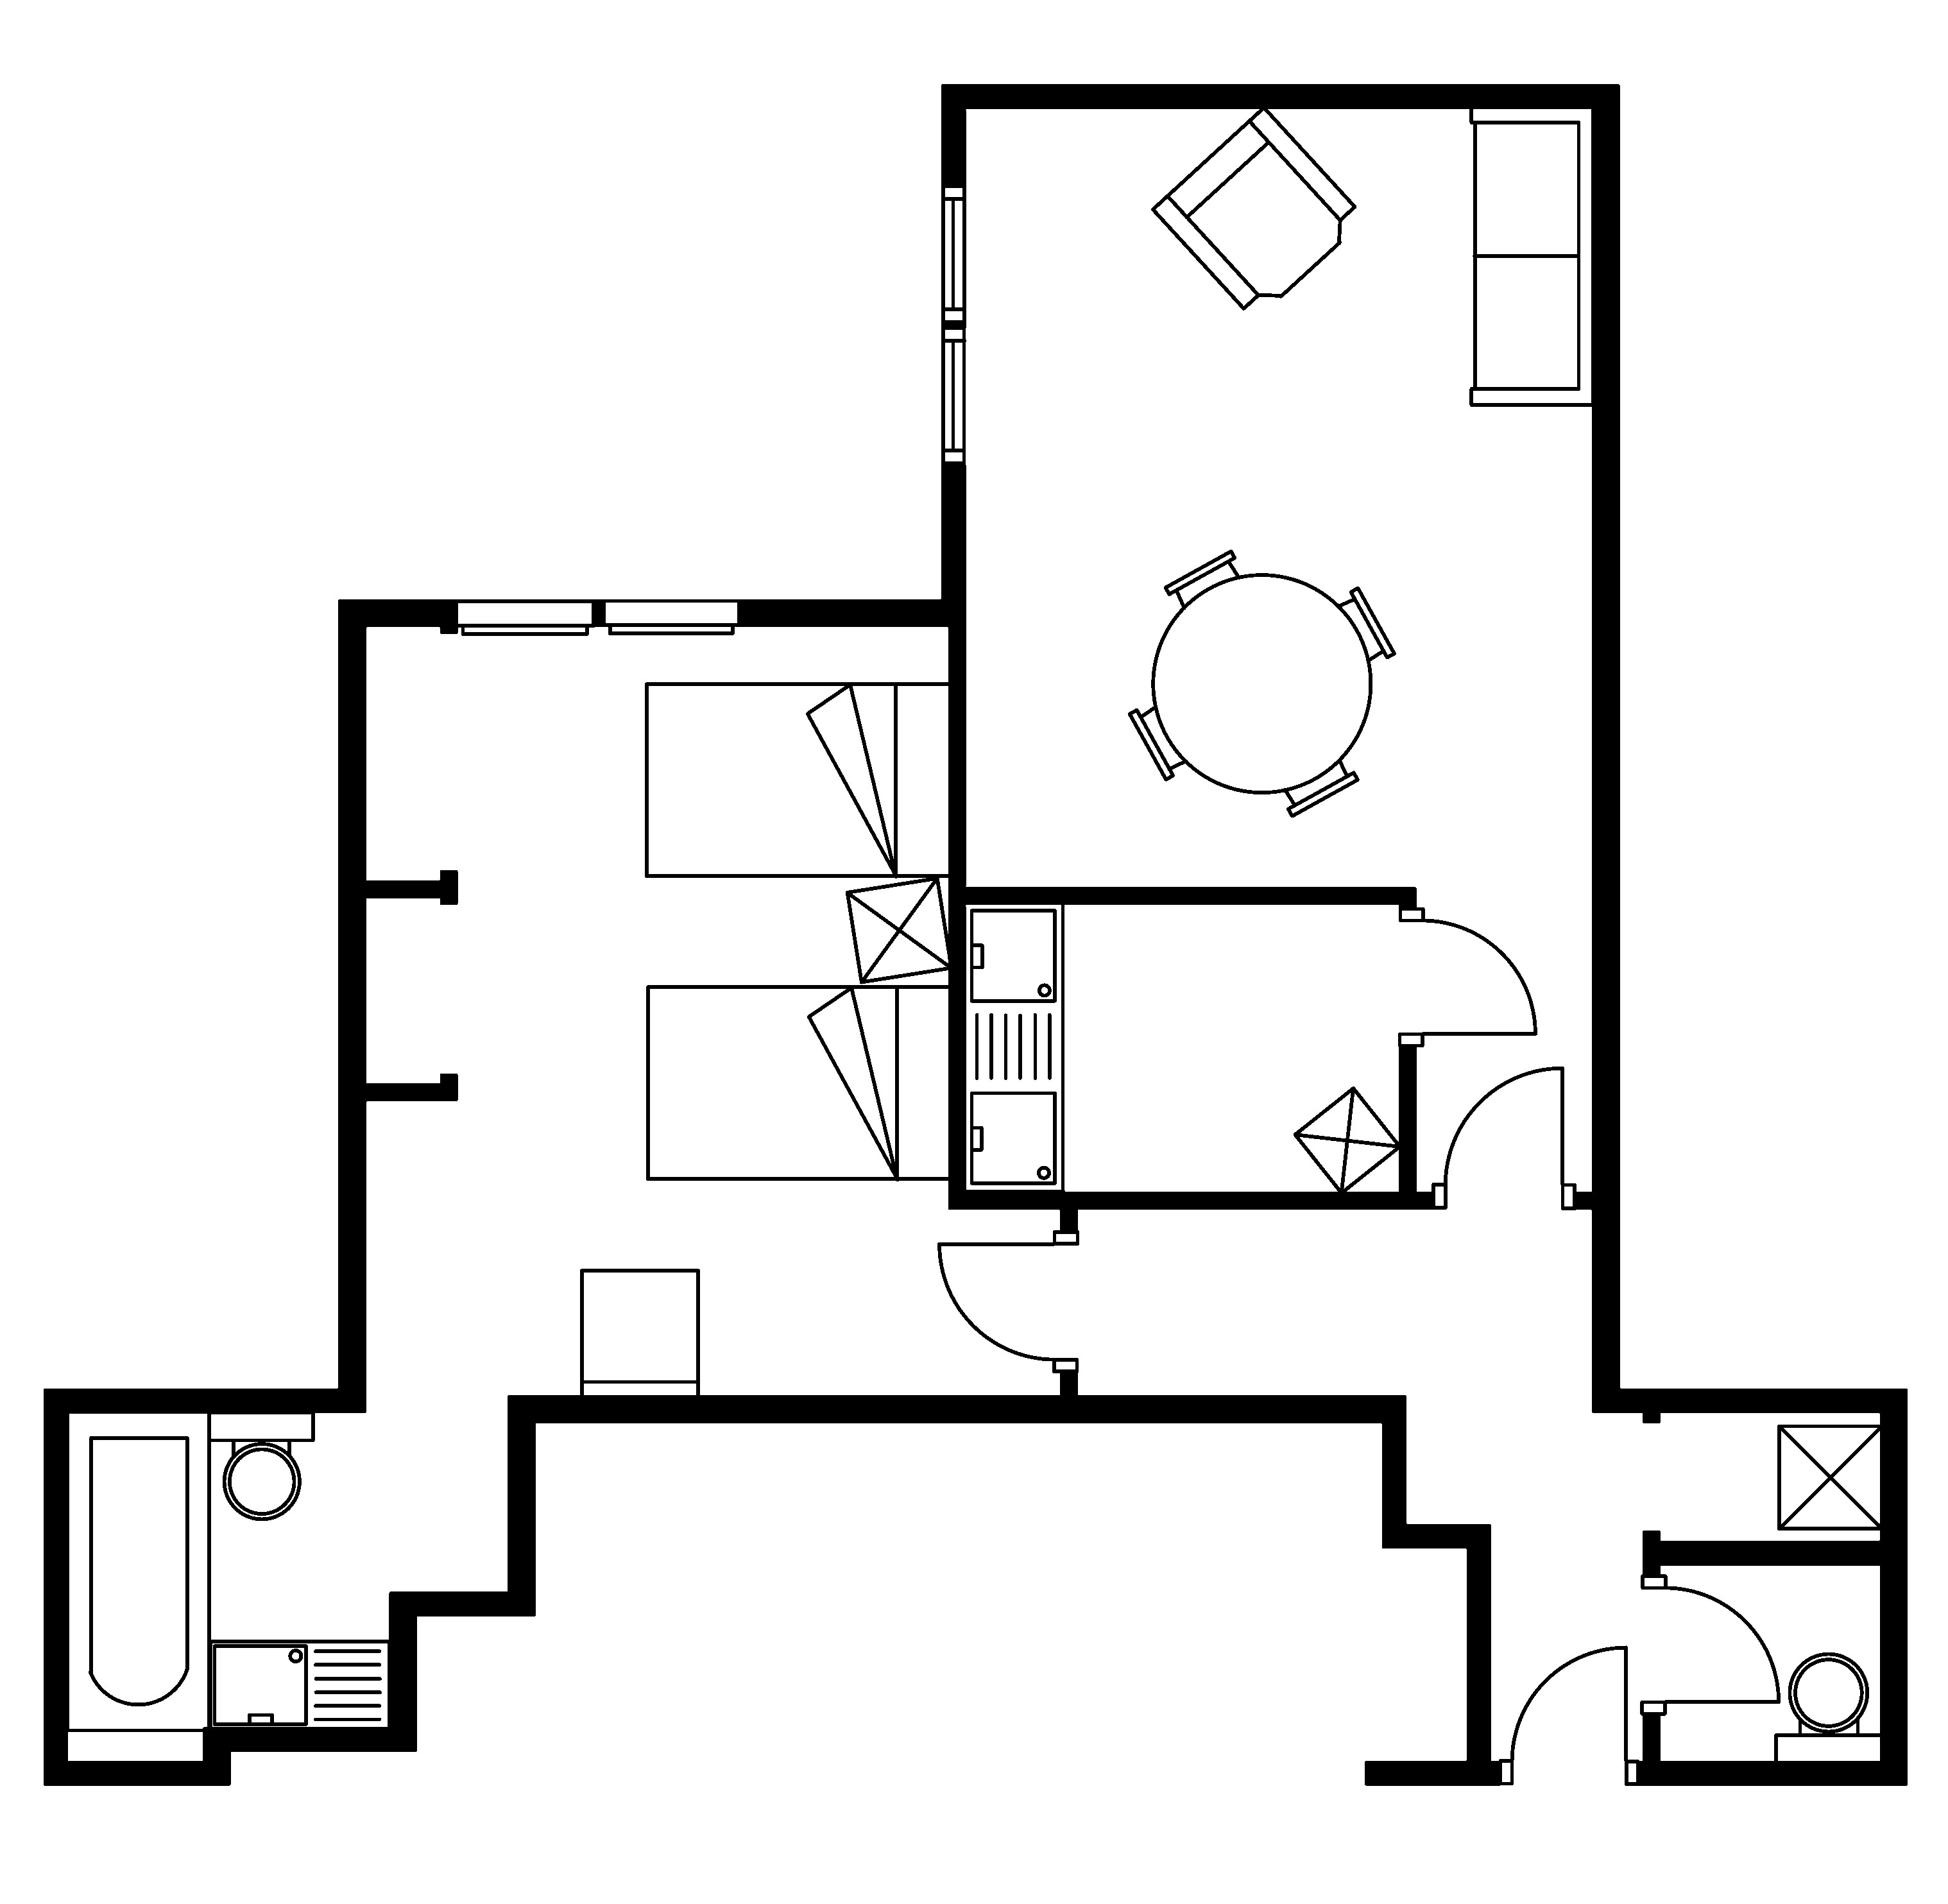armchair: (1149, 105, 1357, 310)
bed: (644, 680, 952, 879), (645, 983, 954, 1182)
coffee_table: (1292, 1085, 1402, 1194), (844, 875, 952, 985), (1775, 1423, 1883, 1531)
large_sink: (1774, 1653, 1885, 1766), (206, 1411, 316, 1520)
large_sofa: (1468, 105, 1596, 406)
round_table: (1127, 549, 1397, 818)
sink: (208, 1639, 391, 1731)
small_sofa: (579, 1268, 699, 1402)
tub: (65, 1409, 211, 1733)
twin_sink: (961, 900, 1066, 1194)
